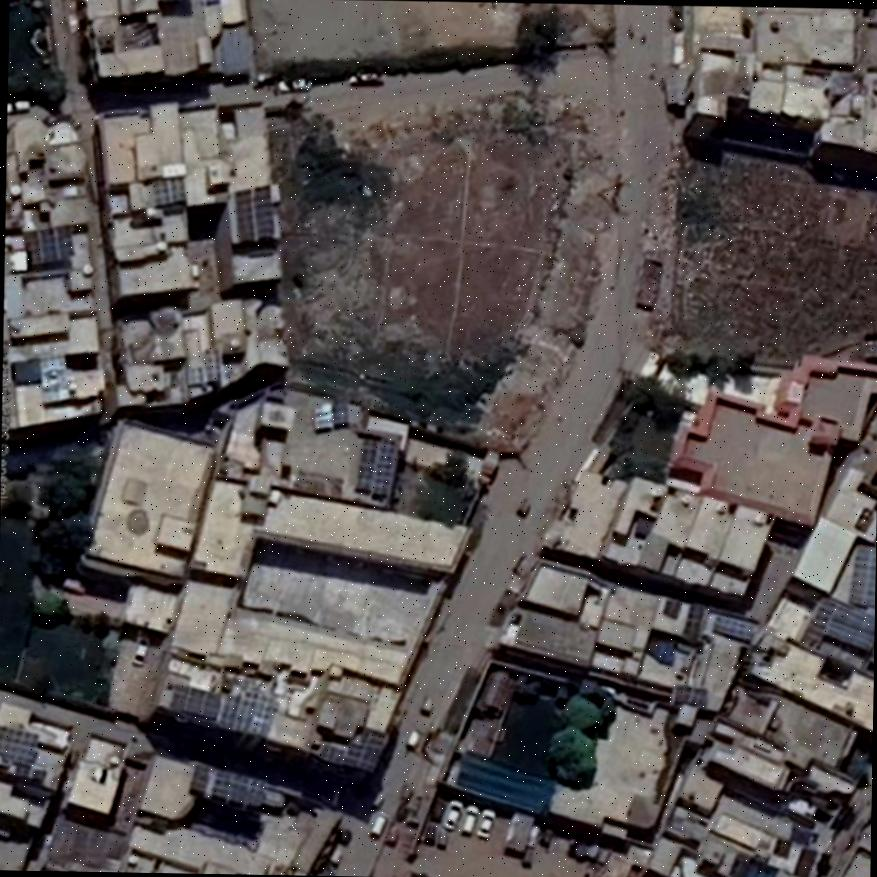Solarpanel: (312, 722, 386, 774), (211, 765, 264, 808), (355, 439, 393, 497), (237, 183, 275, 241), (22, 225, 74, 264), (850, 542, 875, 609), (171, 686, 216, 718), (0, 729, 34, 760), (682, 603, 707, 639), (310, 401, 333, 433), (665, 600, 679, 617)
